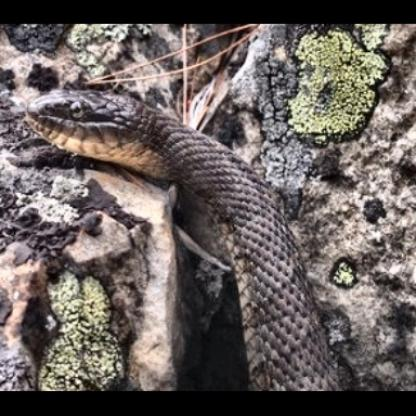Snake: (24, 79, 328, 381)
